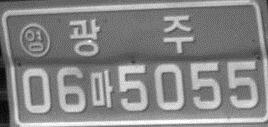0: (153, 62, 185, 110), (21, 66, 51, 114)
5: (189, 61, 222, 111), (116, 63, 149, 112), (226, 61, 258, 110)
6: (56, 65, 85, 113)
광주_D: (68, 14, 194, 57)
마: (89, 69, 114, 108)
영: (18, 22, 50, 58)
